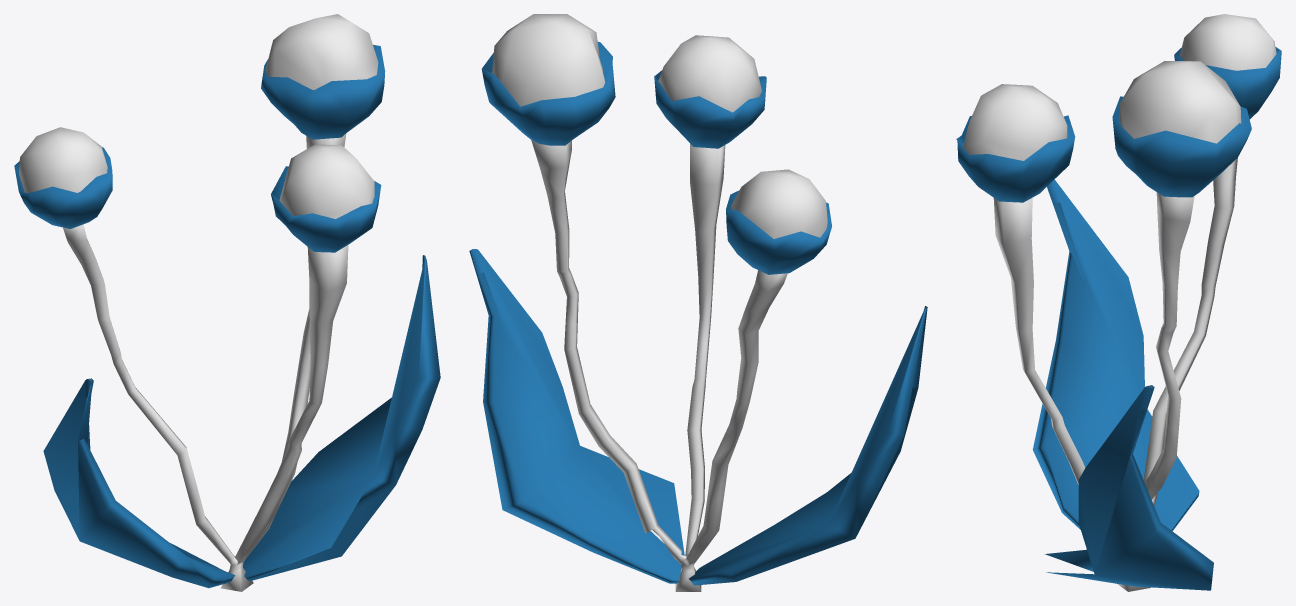
Rendered from bubble_guy_3.fbx.
The picture shows the model from 3 angles, left to right: view 1: azimuth 30°, elevation 25°; view 2: azimuth 150°, elevation 25°; view 3: azimuth 270°, elevation 25°; orthographic projection. The views are drawn at different scales.
Parts seen in each view (by area): view 1: Cube.013, Cube.014, Cube.012, Icosphere.007, Icosphere.012, Icosphere.009, Icosphere.008, Icosphere.015, Icosphere.013; view 2: Cube.013, Cube.014, Cube.012, Icosphere.007, Icosphere.009, Icosphere.012, Icosphere.008, Icosphere.015, Icosphere.013; view 3: Cube.012, Cube.014, Cube.013, Icosphere.007, Icosphere.012, Icosphere.009, Icosphere.015, Icosphere.008, Icosphere.013.
Part boxes in pixels (x1,y1,x2,y2): Cube.013: (243,255,440,581); Cube.014: (63,133,348,591); Cube.012: (43,378,235,588); Icosphere.007: (265,14,378,89); Icosphere.012: (261,44,385,139); Icosphere.009: (279,144,374,218); Icosphere.008: (19,127,107,192); Icosphere.015: (271,166,381,252); Icosphere.013: (14,147,112,228); Cube.013: (469,249,684,583); Cube.014: (531,140,787,591); Cube.012: (689,306,927,585); Icosphere.007: (492,14,605,106); Icosphere.009: (658,35,761,112); Icosphere.012: (481,41,615,145); Icosphere.008: (731,169,827,238); Icosphere.015: (654,70,766,148); Icosphere.013: (726,190,831,274); Cube.012: (1032,179,1199,530); Cube.014: (993,157,1237,591); Cube.013: (1045,385,1213,590); Icosphere.007: (1119,61,1241,143); Icosphere.012: (1112,96,1251,197); Icosphere.009: (963,84,1067,160); Icosphere.015: (956,115,1075,202); Icosphere.008: (1179,14,1276,70); Icosphere.013: (1174,47,1281,119).
Bounding box in the file's own units: 212 × 269 × 137.
